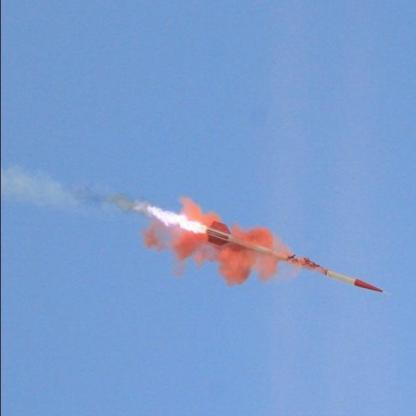MIL_TBM: (271, 248, 388, 301)
